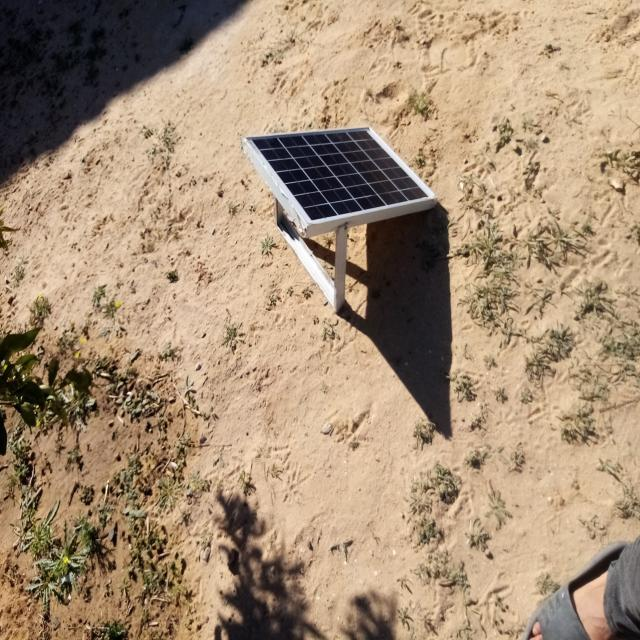no faulty: (243, 127, 436, 227)
